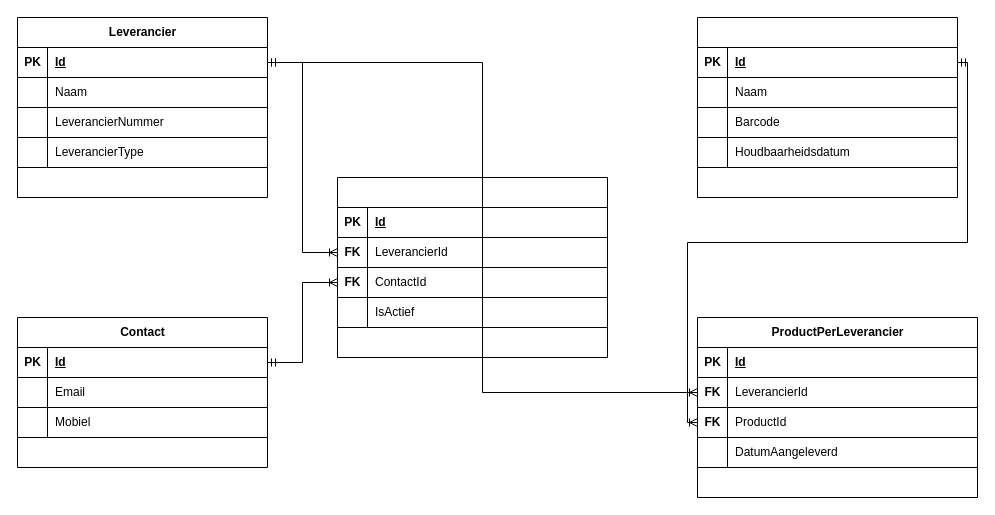
Image size: 995x515. Some labels were removed from this diagram. Here are the shapes that lost their labels. From the top down, the box of each, then its label:
(696, 16, 958, 198): Product
(336, 176, 608, 358): ContactPerLeverancier
